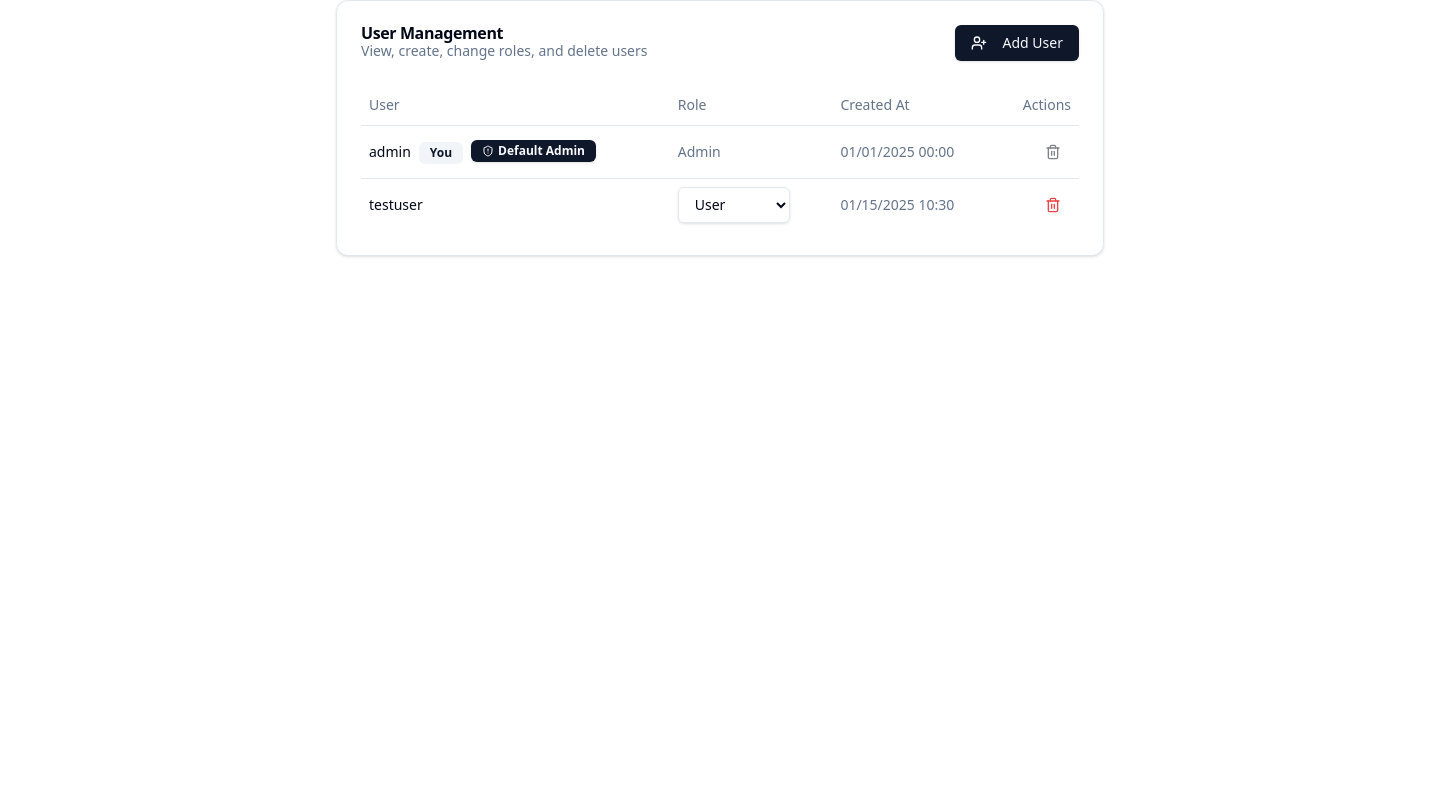
Test case: UserManagementPage › shows delete confirmation dialog
Expected: the text "testuser" is shown, [361,178,670,230]
Click the button without text in the row of "testuser": (1053, 204) [1035,186,1071,222]
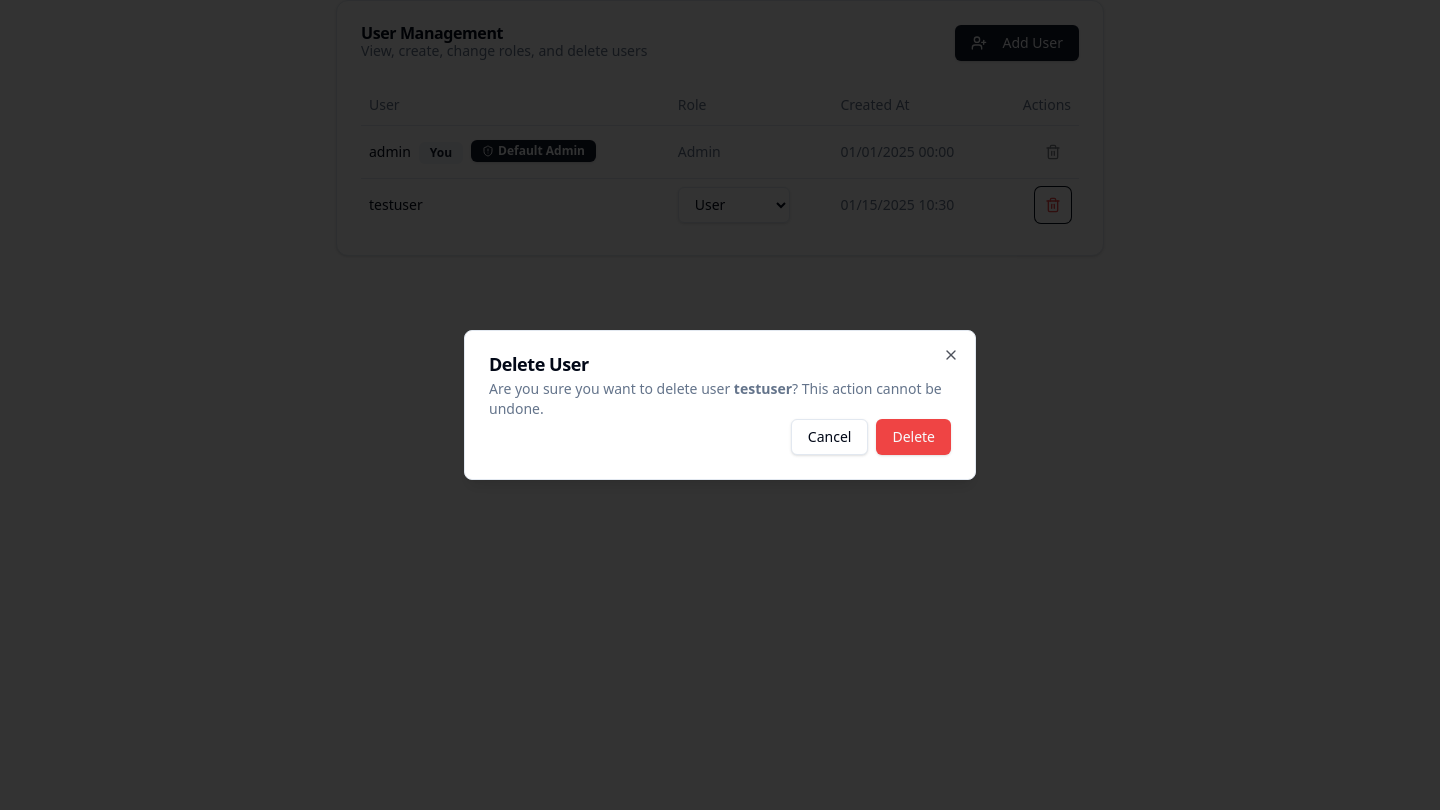
Now the text "This action cannot be undone" is shown, box [489,379,942,418]
